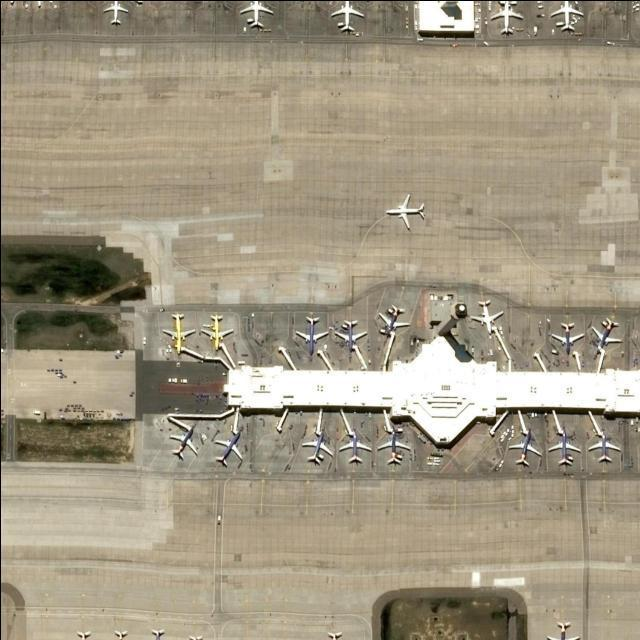Aircraft: (584, 429, 624, 467), (385, 194, 427, 229), (469, 297, 507, 335), (375, 428, 411, 468), (298, 429, 334, 469), (487, 0, 527, 36), (162, 312, 196, 354), (335, 428, 372, 465), (507, 429, 541, 469), (550, 319, 586, 356), (336, 317, 371, 355), (295, 317, 329, 356), (546, 431, 582, 467), (375, 304, 413, 338), (199, 316, 235, 350), (213, 429, 246, 465), (167, 424, 199, 460), (591, 319, 623, 355), (330, 0, 366, 32), (550, 0, 584, 32), (239, 1, 274, 31), (545, 620, 587, 640), (103, 0, 131, 25), (146, 622, 170, 640), (111, 623, 131, 640), (69, 627, 95, 640)
